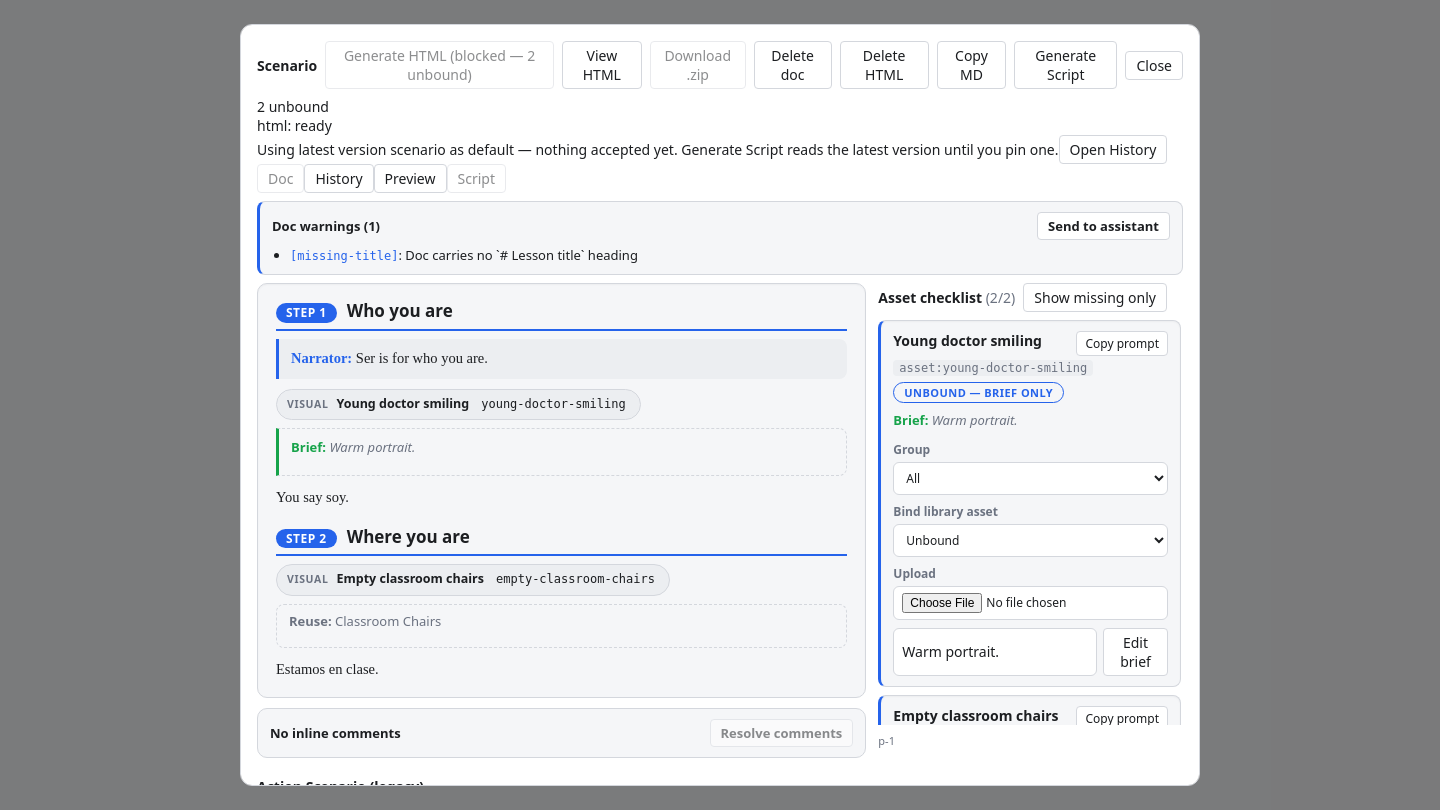
Scenario: AiScenarioModal doc-first blocking checklist (issue #463) › Delete doc arms on first click and clears doc/history while keeping HTML
The width and height of the screenshot is (1440, 810).
Expected: the element with test id "ai-scenario-modal-doc" is shown, [257,283,866,698]
Click the button with test id "ai-scenario-delete-doc" at point(793, 65), box [754,41,832,89]
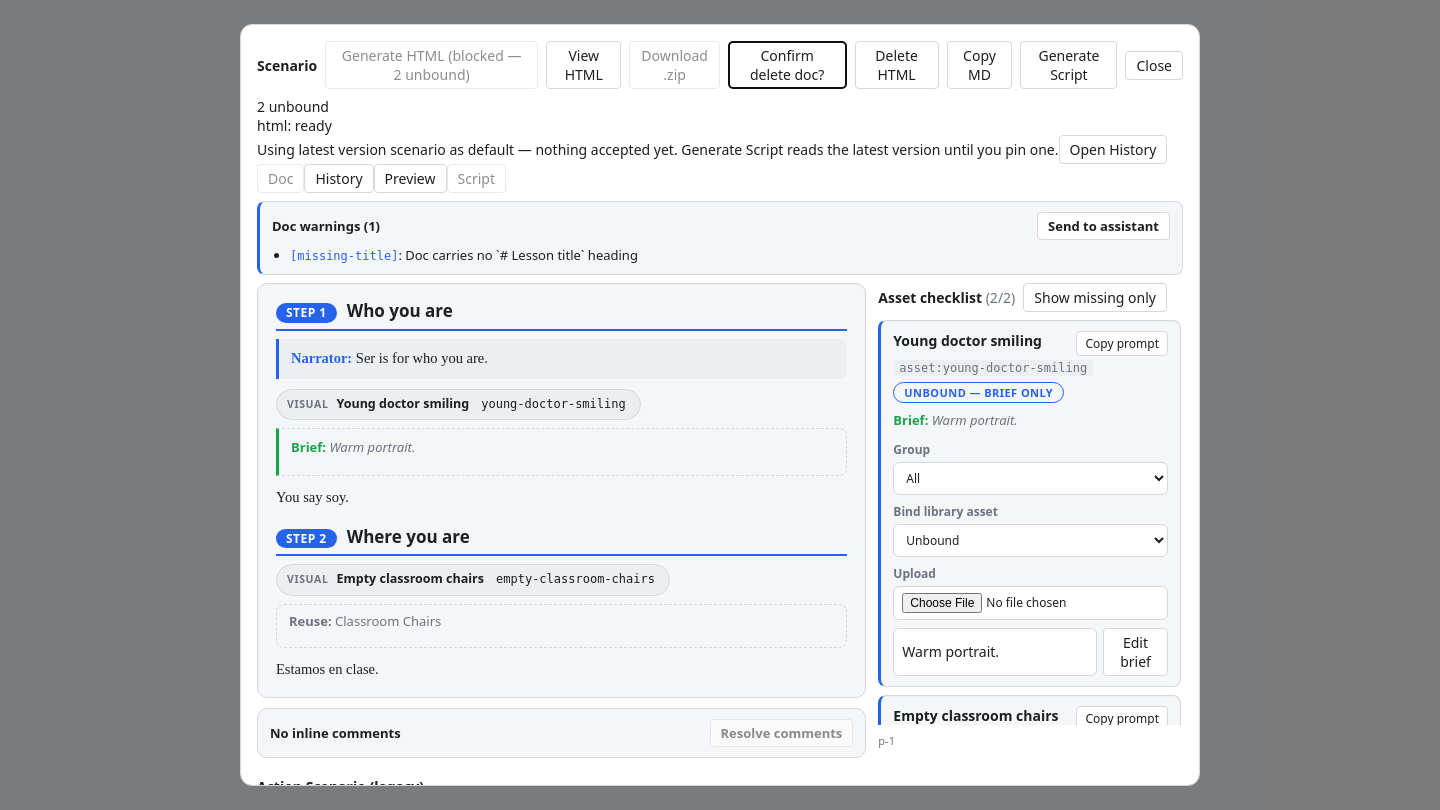
Result: the button with test id "ai-scenario-delete-doc" shows "Confirm"
Click the button with test id "ai-scenario-delete-doc" at point(787, 65), box [728,41,846,89]
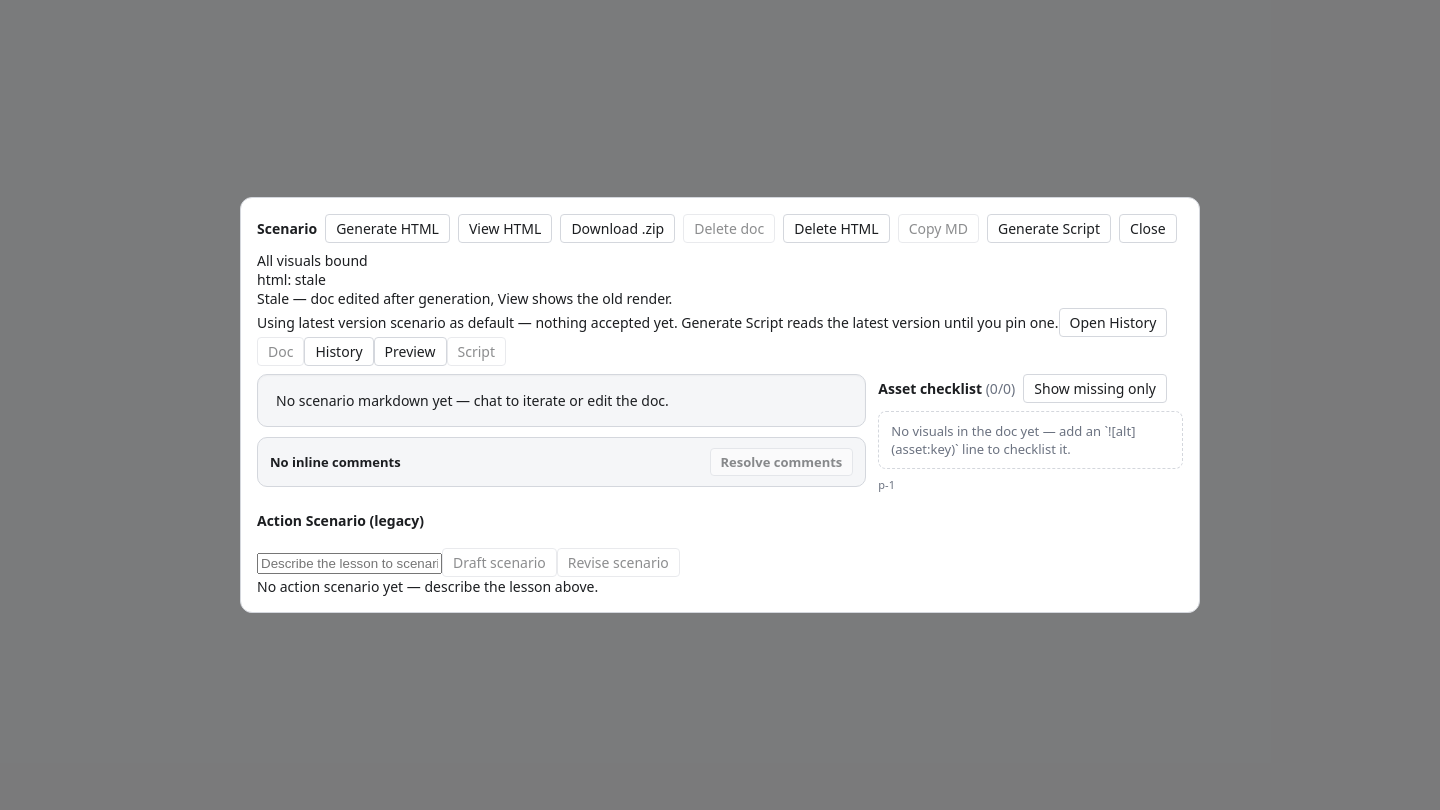
Result: the text "No scenario markdown yet — chat to iterate or edit the doc." is shown at [276,391,669,410]
Result: the text with test id "ai-scenario-checklist-empty" is shown at [878,411,1183,469]
Result: the text with test id "ai-scenario-html-state" shows "stale" at [295,270,326,289]
Preview still opens the old render from the preserved source version.
Click the button with test id "ai-scenario-view" at point(505, 228), box [458,214,552,243]
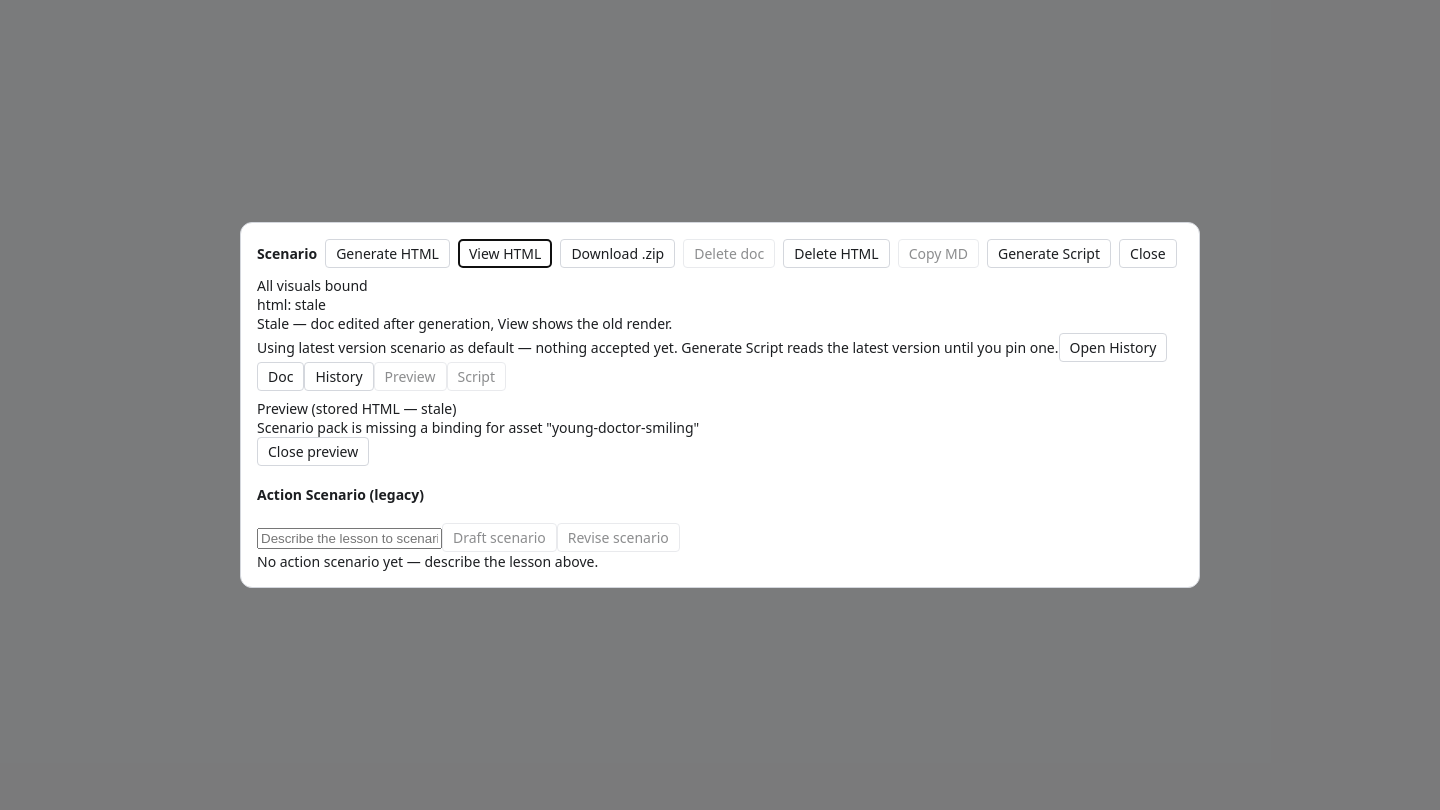
Result: the element with test id "ai-scenario-html-preview" is shown at [257,399,699,466]
